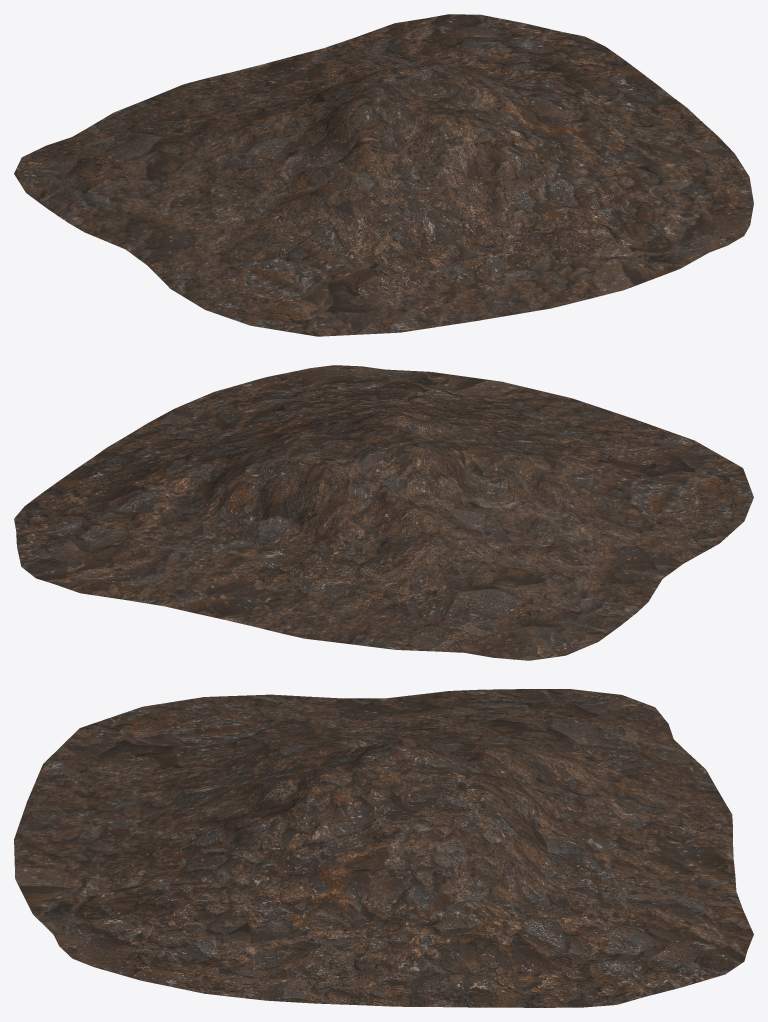
The model's file is EP1_Terrain04d.fbx.
3 renders of one model, top to bottom at view 1: azimuth 30°, elevation 25°; view 2: azimuth 150°, elevation 25°; view 3: azimuth 270°, elevation 25°, orthographic. The views are drawn at different scales.
Visible parts, largest first — view 1: EP1_Terrain04d; view 2: EP1_Terrain04d; view 3: EP1_Terrain04d.
Part boxes in pixels (bbox=[...]): EP1_Terrain04d: bbox=[14, 14, 753, 336]; EP1_Terrain04d: bbox=[14, 365, 753, 660]; EP1_Terrain04d: bbox=[14, 689, 753, 1007].
Size of the model in its own units: 21.86 by 2.91 by 21.44.
Materials: 1 (1 with a texture image).
